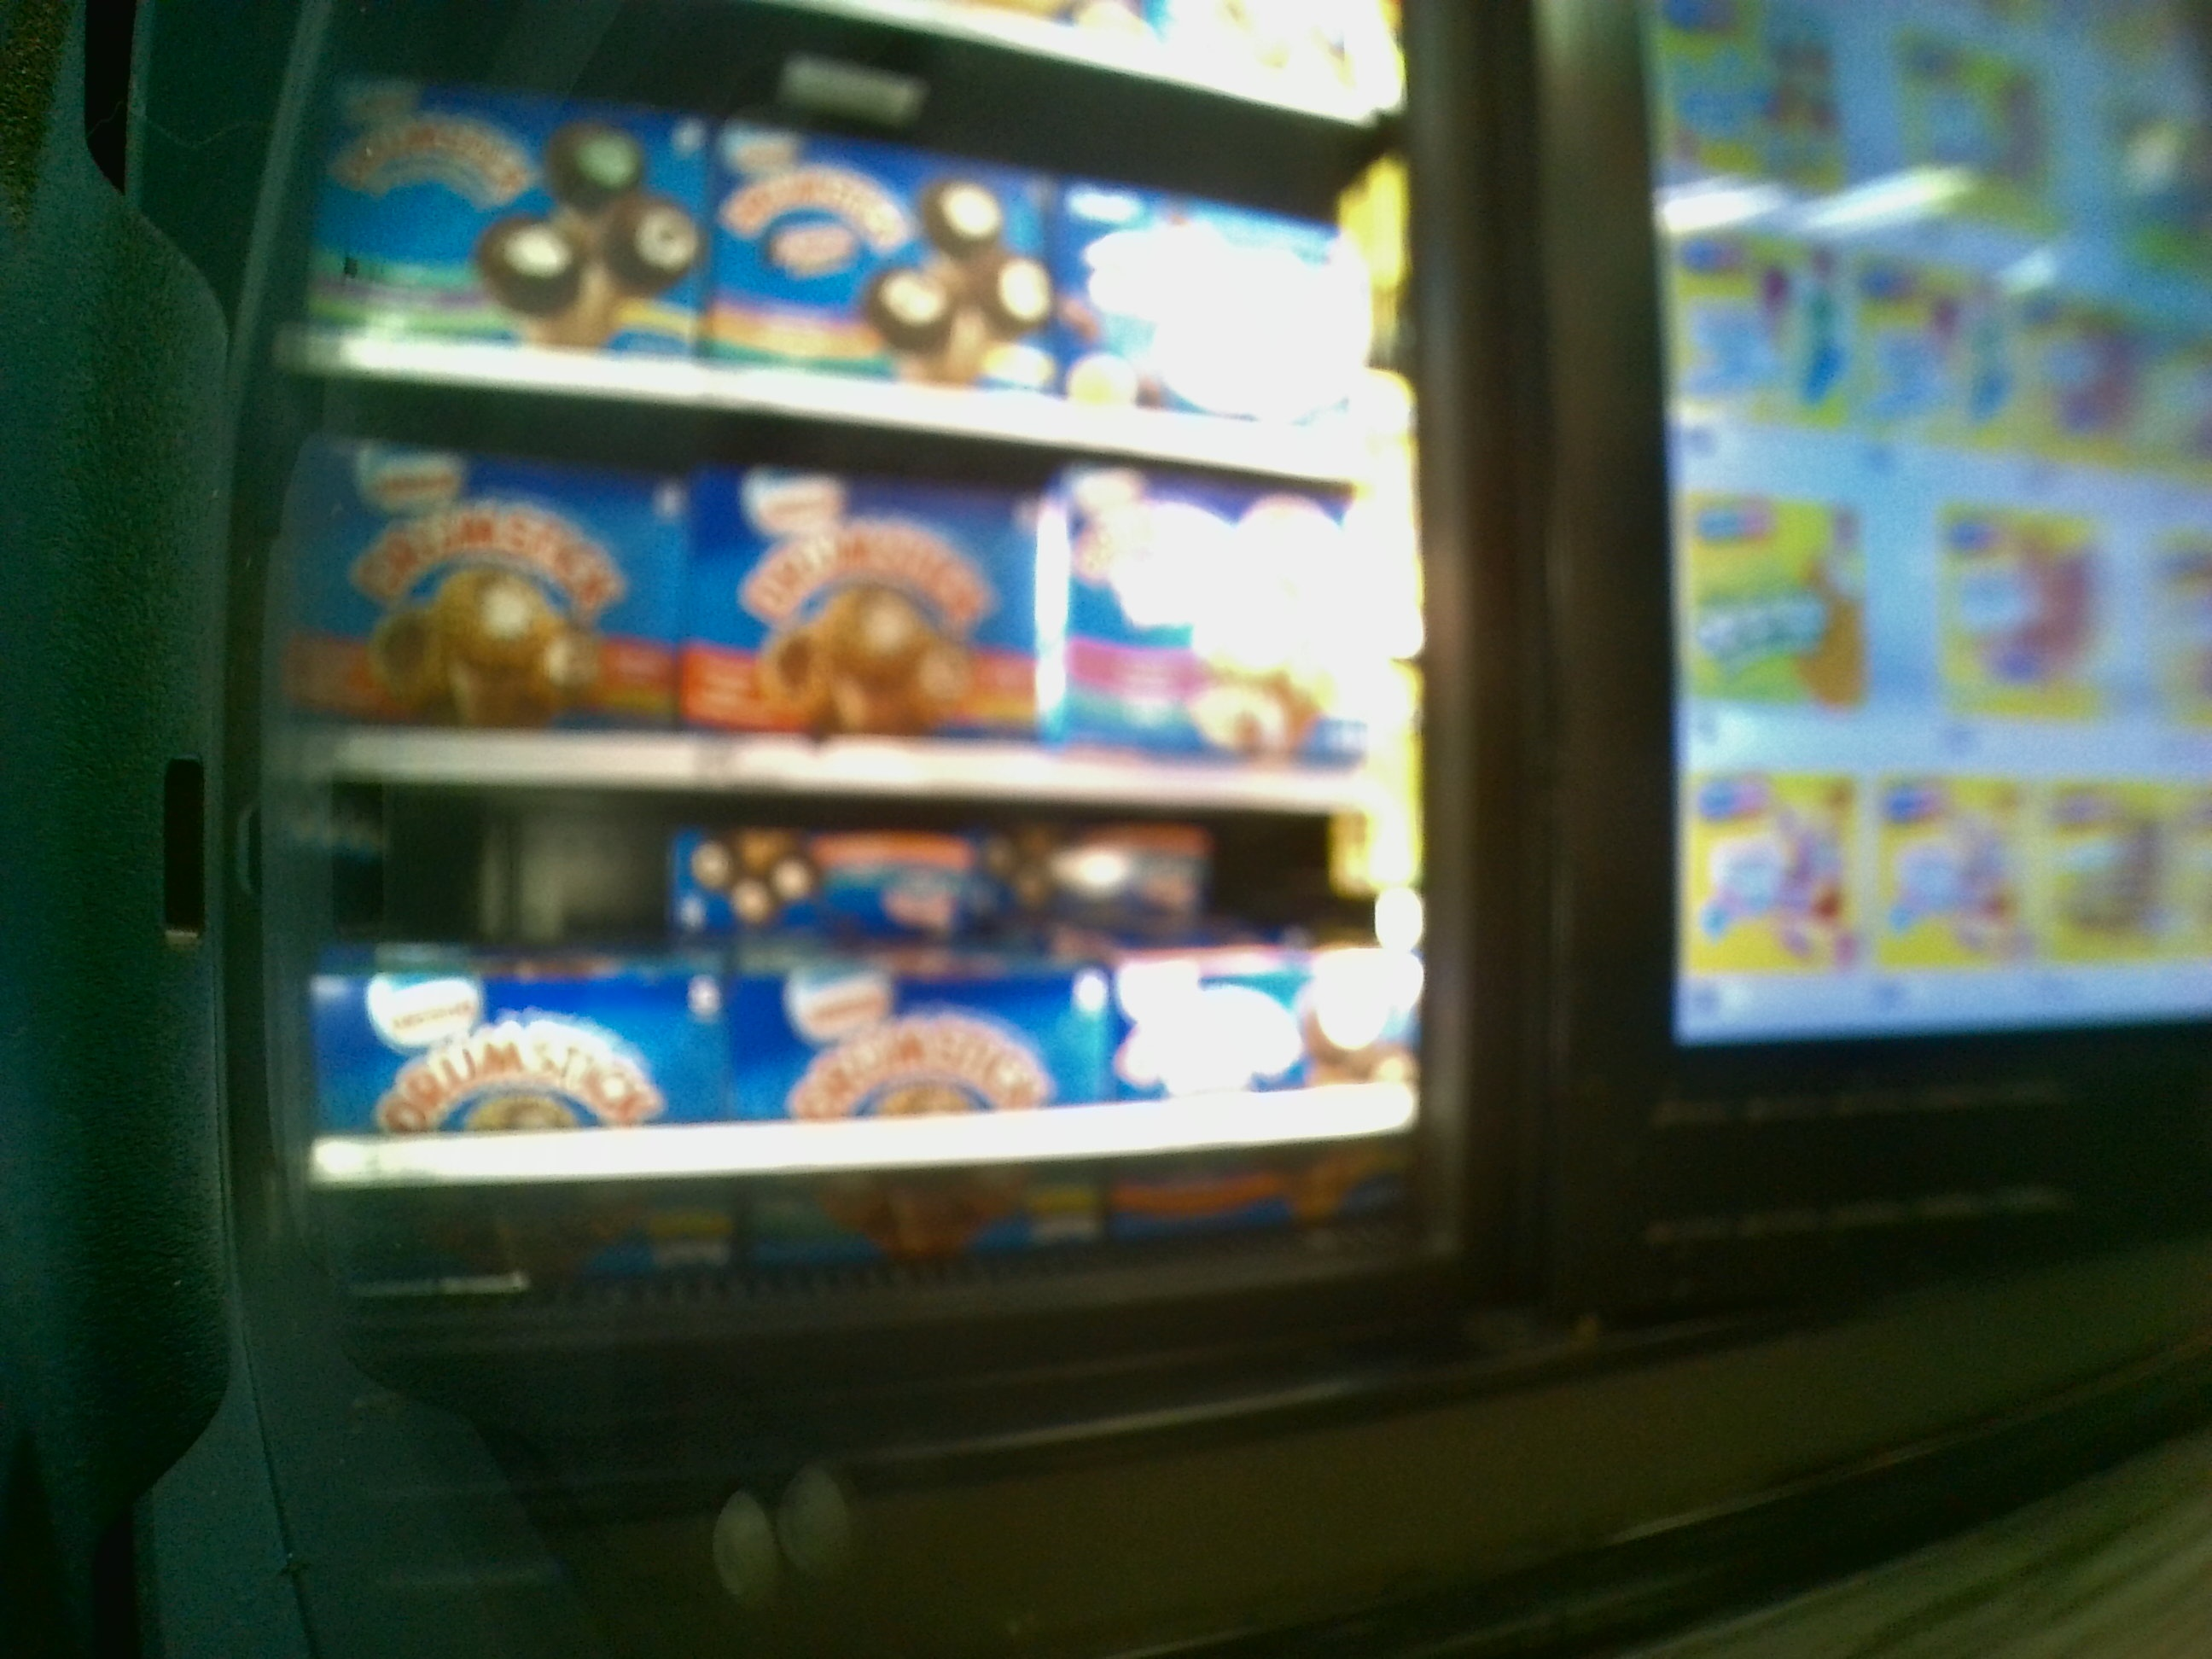shelf: (294, 788, 1404, 1274), (270, 446, 1413, 795)
